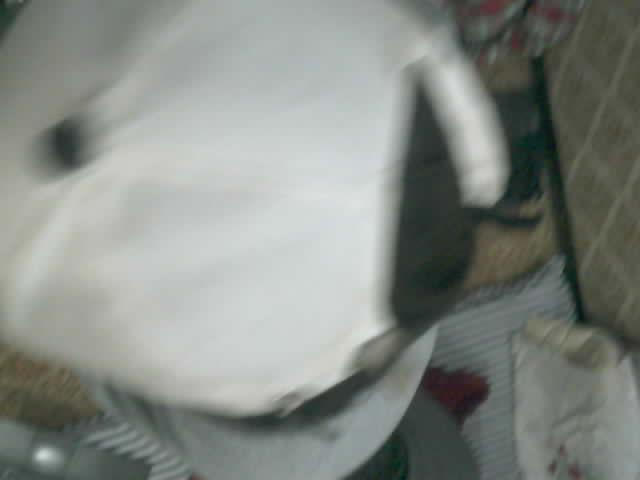cap: (0, 0, 511, 479)
